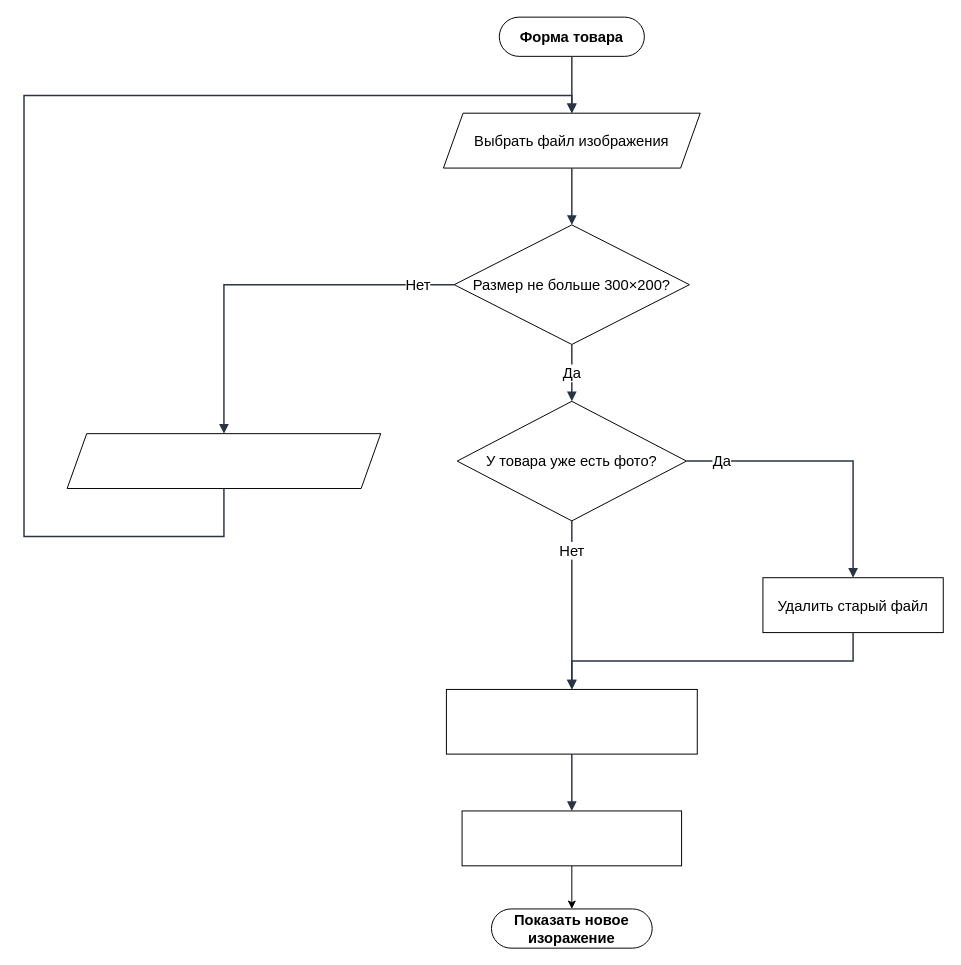
Image size: 961x965. Some labels were removed from this diagram. Each missing label, with the centre of its shape:
Скопировать новое фото в папку приложения: (571,721)
Сообщить об ограничении: (223,461)
Сохранить путь к фото в БД: (571,838)
